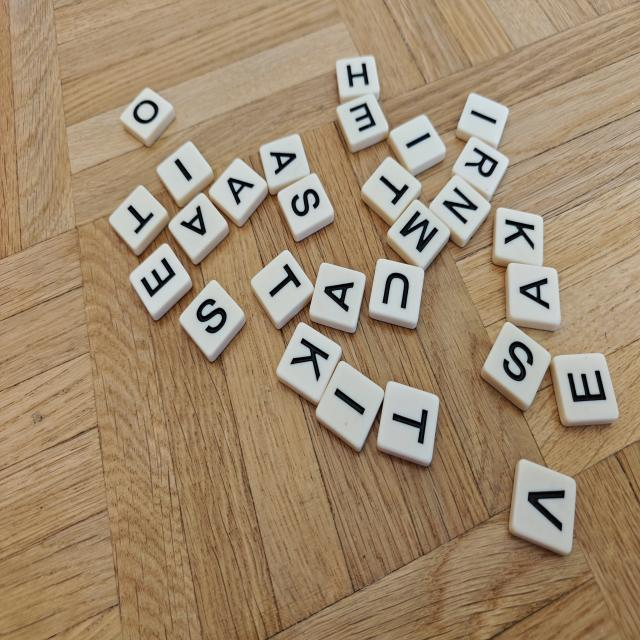a: (169, 193, 229, 264), (209, 158, 268, 226), (505, 262, 561, 330), (310, 263, 365, 332), (260, 134, 310, 194)
e: (550, 353, 618, 426), (130, 244, 192, 320), (336, 94, 389, 153)
h: (336, 55, 380, 104)
i: (316, 361, 384, 451), (157, 141, 213, 207), (389, 114, 446, 176), (456, 93, 509, 148)
k: (276, 322, 342, 405), (492, 208, 543, 266)
m: (387, 200, 450, 270)
n: (429, 176, 490, 247)
o: (120, 88, 175, 147)
r: (452, 137, 509, 200)
s: (481, 322, 551, 410), (179, 280, 245, 361), (278, 174, 334, 241)
t: (377, 381, 439, 466), (251, 250, 314, 329), (109, 185, 169, 255), (361, 157, 421, 226)
u: (369, 259, 424, 328)
v: (509, 459, 576, 555)
